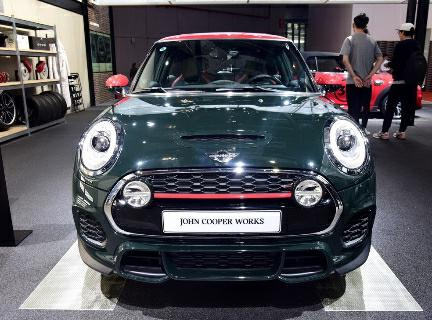MINI-JCW: (62, 65, 391, 302)
